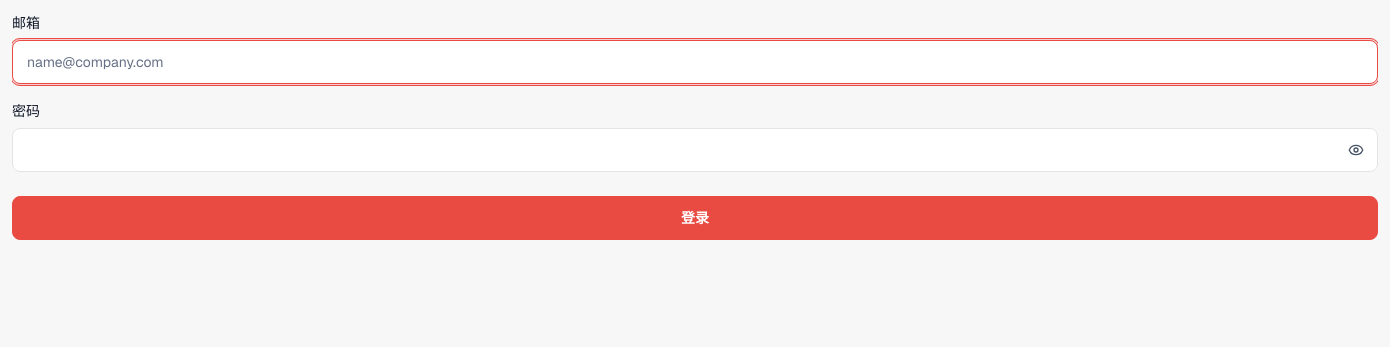
Test: LoginForm › shows one generic message for authentication failure
Type "jason@example.com" into the field labelled "邮箱". click: (695, 62)
box: [12,40,1378,84]
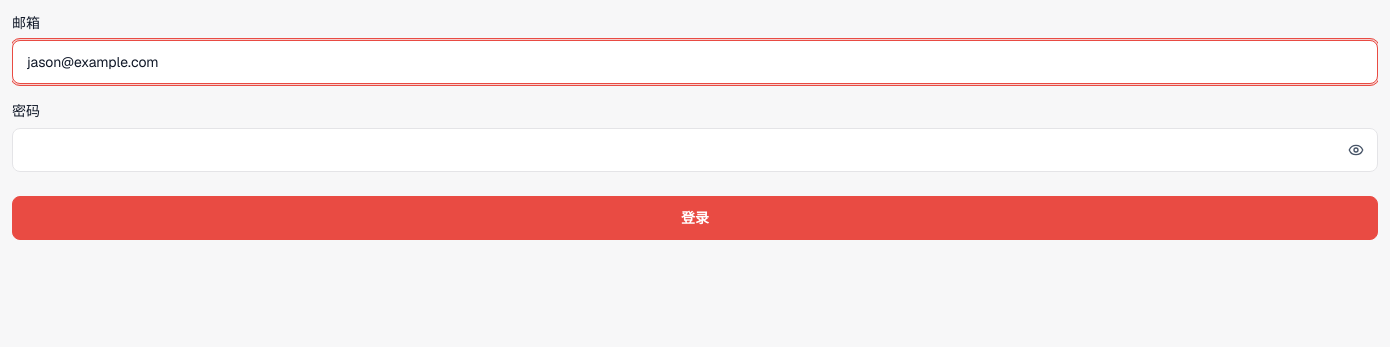
Type "wrong-password" into the password field labelled "密码". click: (695, 150)
box: [12,128,1378,172]
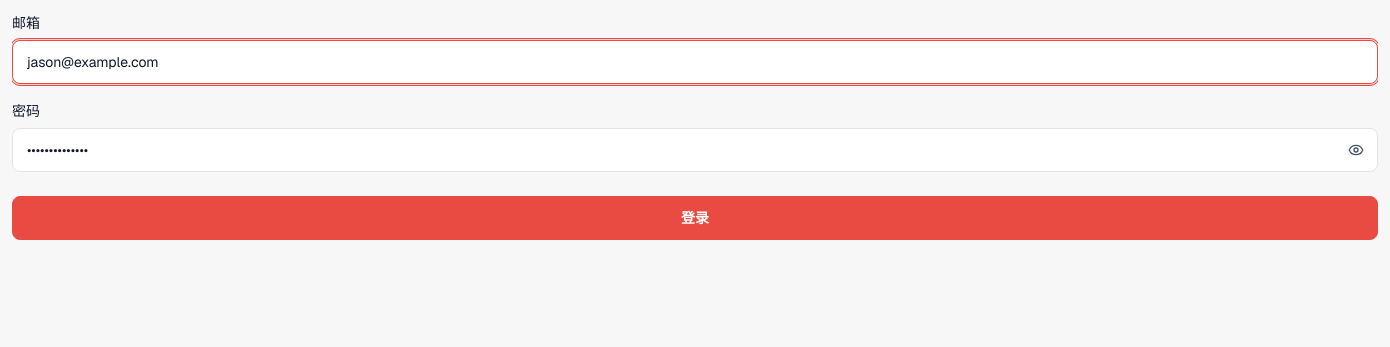
Click the button "登录". click: (695, 218)
box: [12,196,1378,240]
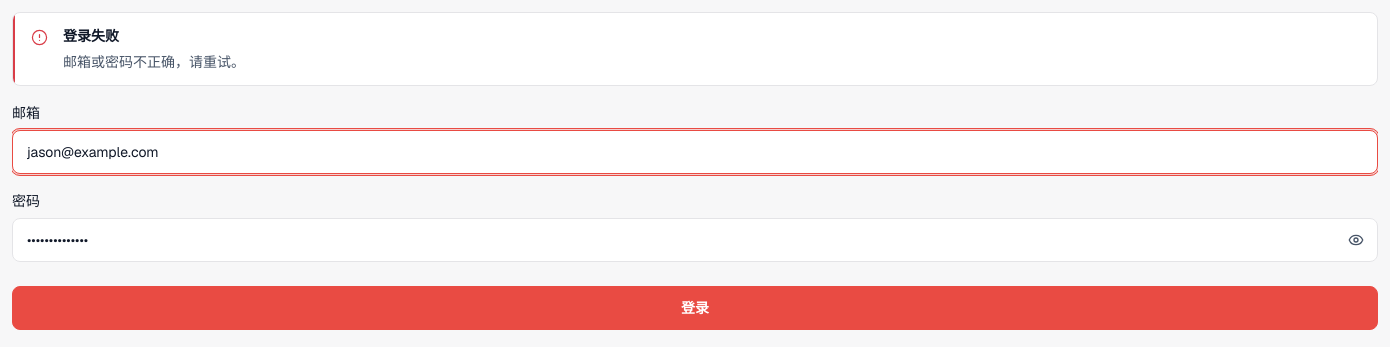
expect the text "邮箱或密码不正确，请重试。" is shown: met, box [63,53,245,71]
